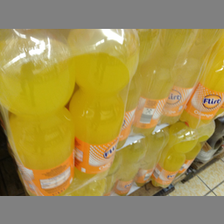soda: (1, 29, 75, 195), (69, 29, 139, 177), (139, 29, 191, 133)
